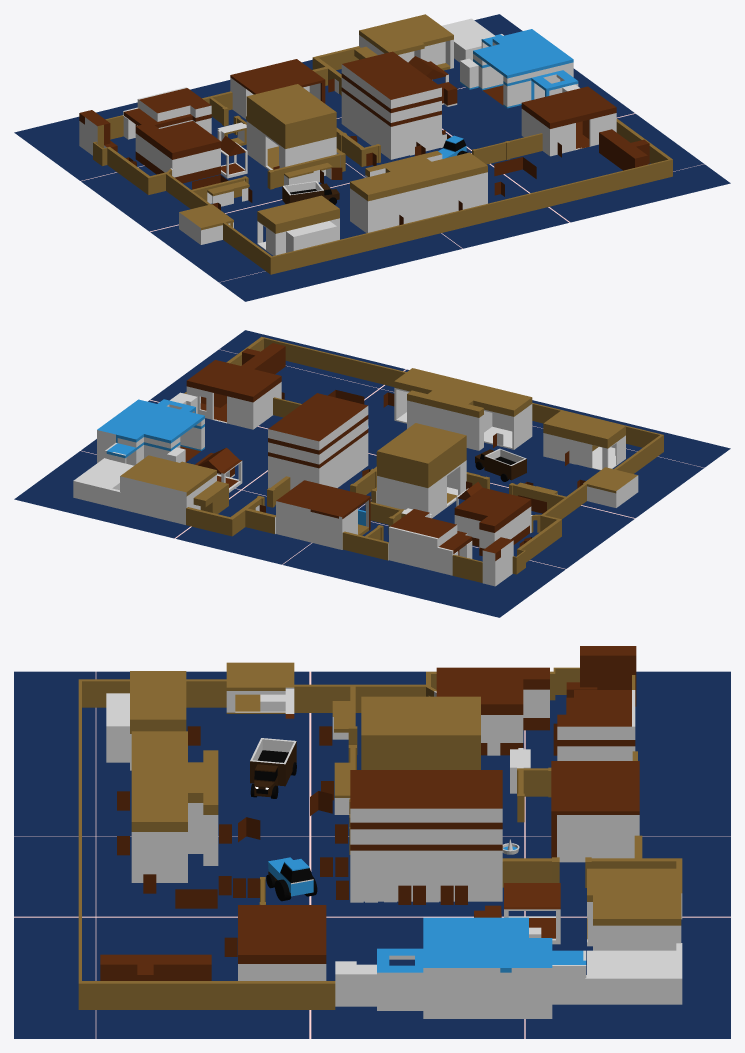
3 views of the same model, one above another, from view 1: azimuth 30°, elevation 25°; view 2: azimuth 150°, elevation 25°; view 3: azimuth 270°, elevation 25° (orthographic). The views are drawn at different scales.
Parts seen in each view (by area): view 1: Cube.005_5, Plane_8, Cube.003_3, Cube.001_1, Cube.007_7, Cube.002_2, Cube.006_6, Cube_0, Cube.004_4; view 2: Plane_8, Cube.005_5, Cube.003_3, Cube.001_1, Cube.007_7, Cube.002_2, Cube_0, Cube.004_4, Cube.006_6; view 3: Plane_8, Cube.005_5, Cube.001_1, Cube.003_3, Cube.002_2, Cube.007_7, Cube.004_4, Cube_0, Cube.006_6.
Part boxes in pixels (x1,y1,x2,y2): Cube.005_5: [79, 18, 672, 274]; Plane_8: [14, 14, 730, 301]; Cube.003_3: [341, 51, 441, 159]; Cube.001_1: [221, 29, 579, 178]; Cube.007_7: [246, 84, 336, 170]; Cube.002_2: [521, 86, 649, 170]; Cube.006_6: [135, 121, 220, 183]; Cube_0: [354, 14, 453, 70]; Cube.004_4: [230, 59, 325, 119]; Plane_8: [14, 330, 730, 617]; Cube.005_5: [73, 336, 663, 586]; Cube.003_3: [268, 393, 368, 489]; Cube.001_1: [97, 392, 482, 506]; Cube.007_7: [377, 423, 466, 517]; Cube.002_2: [186, 343, 285, 429]; Cube_0: [120, 455, 228, 524]; Cube.004_4: [276, 480, 370, 549]; Cube.006_6: [454, 487, 531, 555]; Plane_8: [14, 671, 730, 1038]; Cube.005_5: [78, 646, 682, 1009]; Cube.001_1: [335, 883, 586, 1018]; Cube.003_3: [350, 770, 502, 901]; Cube.002_2: [100, 905, 326, 980]; Cube.007_7: [361, 696, 480, 769]; Cube.004_4: [551, 761, 639, 862]; Cube_0: [587, 868, 681, 950]; Cube.006_6: [436, 667, 549, 755].
Bounding box in the file's own units: 30.84 × 3.68 × 25.45.
